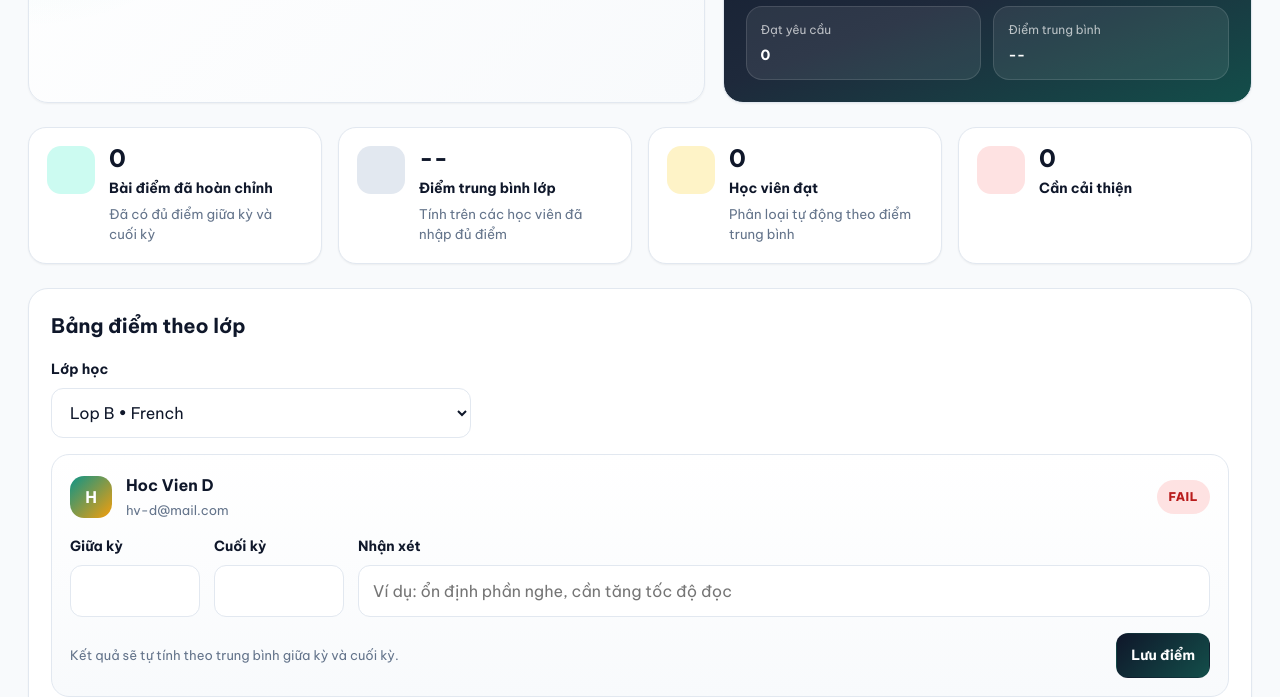
Test case: TeacherGradesPage › tao diem moi bang POST khi hoc vien chua co ban ghi
(page scrolled)
expect the text "Hoc Vien D" is shown: met, box [126,473,229,497]
Type "8" into the number field labelled "Giữa kỳ" at (135, 592), box [70,566,200,618]
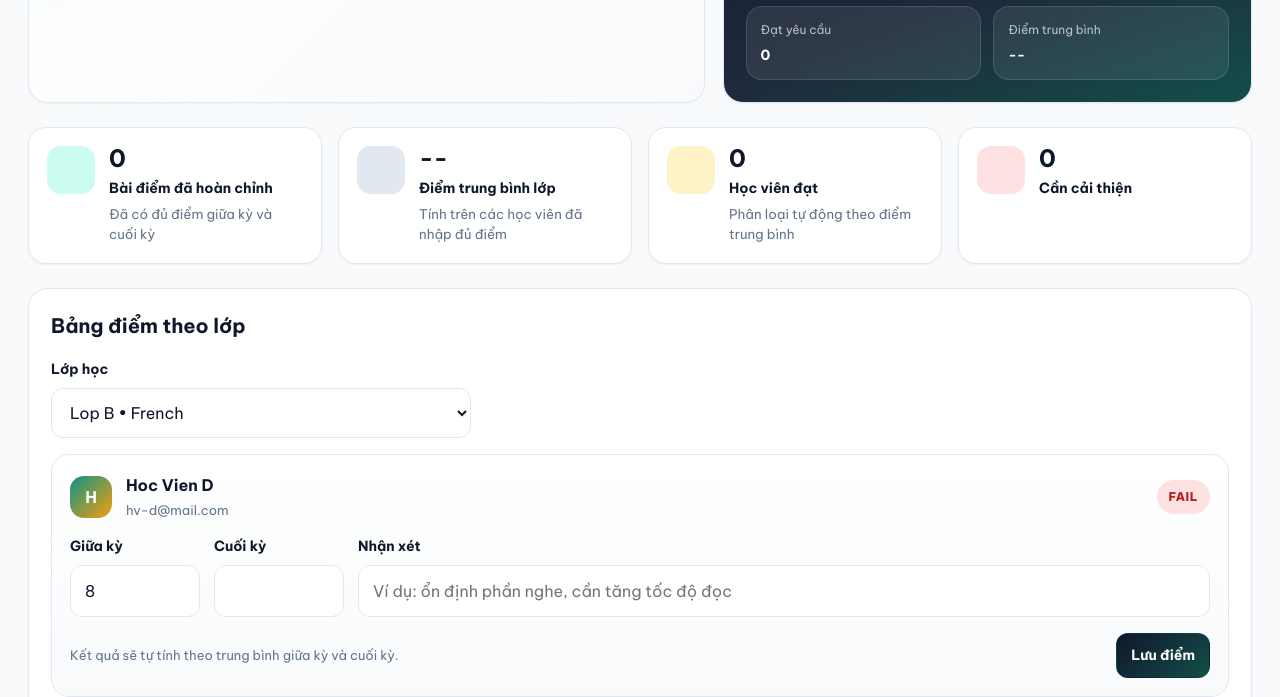
Type "7" into the number field labelled "Cuối kỳ" at (279, 592), box [214,566,344,618]
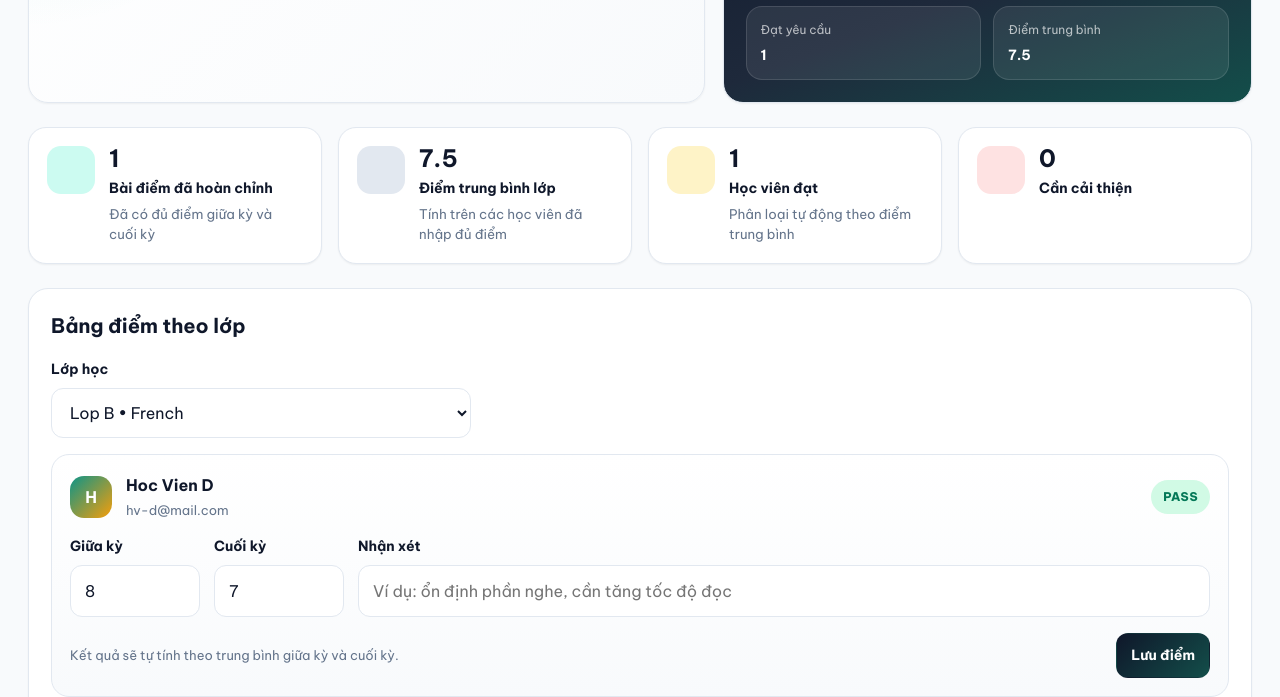
Click the button "Lưu điểm" at (1163, 656), box [1116,634,1210,678]
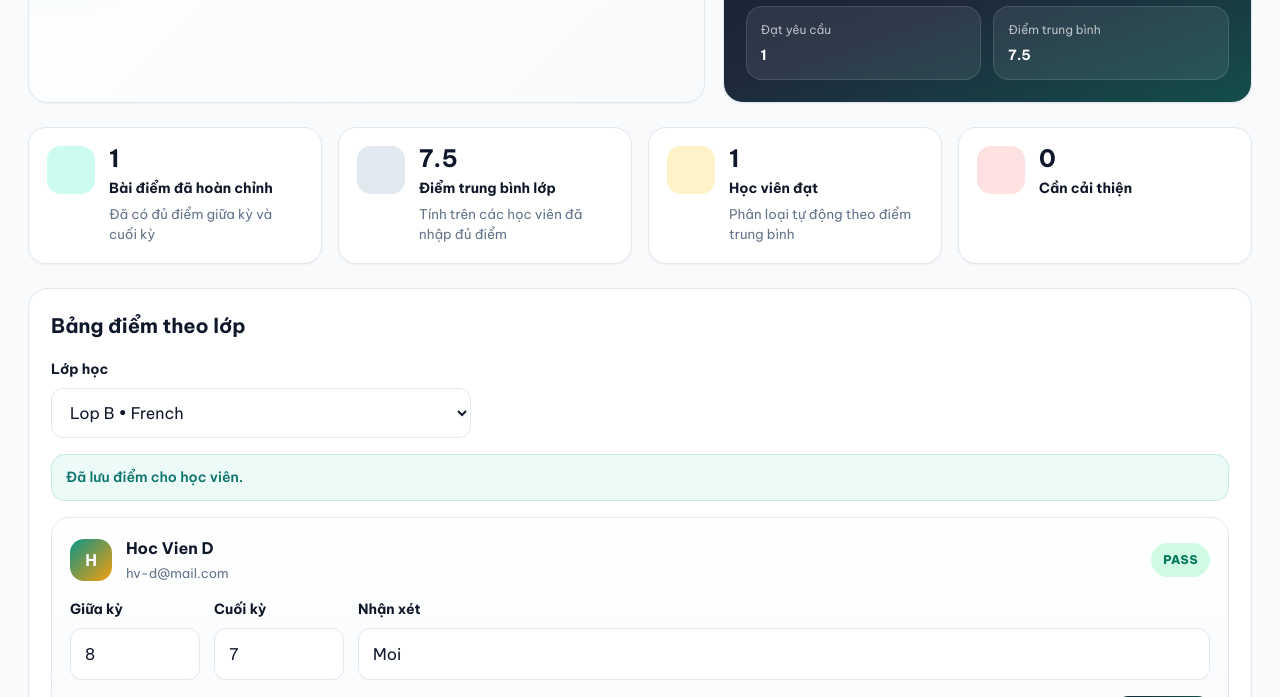
expect the text "Đã lưu điểm cho học viên." is shown: met, box [51,454,1229,501]
